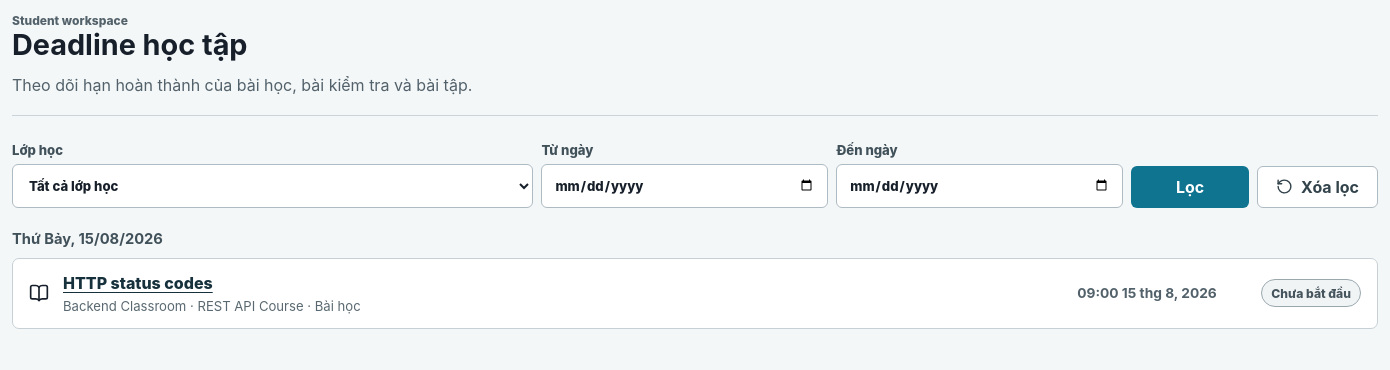
Test: Phase 04 Student learning pages › rejects an invalid deadline range without sending another deadline request
Check: the link "HTTP status codes" is shown, box left=63, top=272, right=213, bottom=292
Type "2026-09-01" into the date field labelled "Từ ngày" at (685, 186), box left=541, top=164, right=828, bottom=208
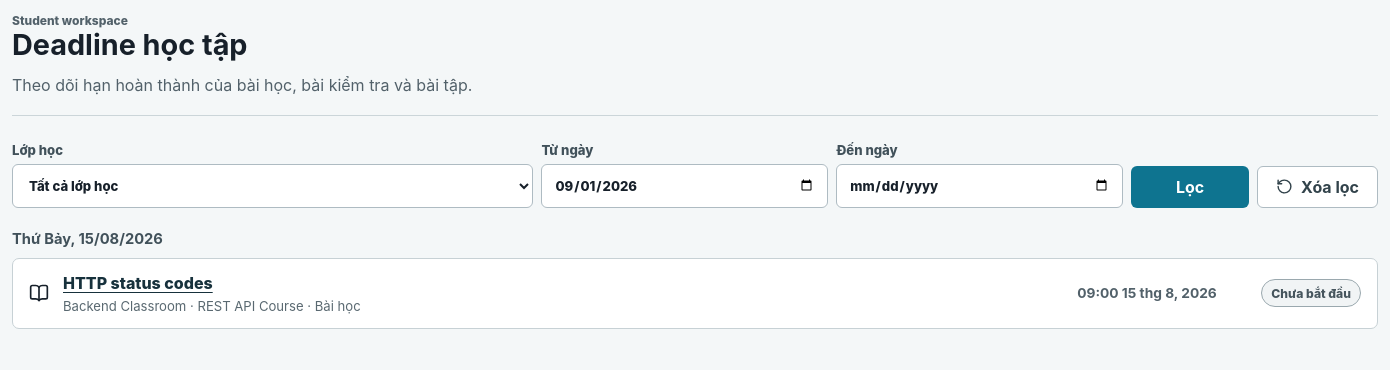
Type "2026-08-01" into the date field labelled "Đến ngày" at (980, 186), box left=836, top=164, right=1123, bottom=208
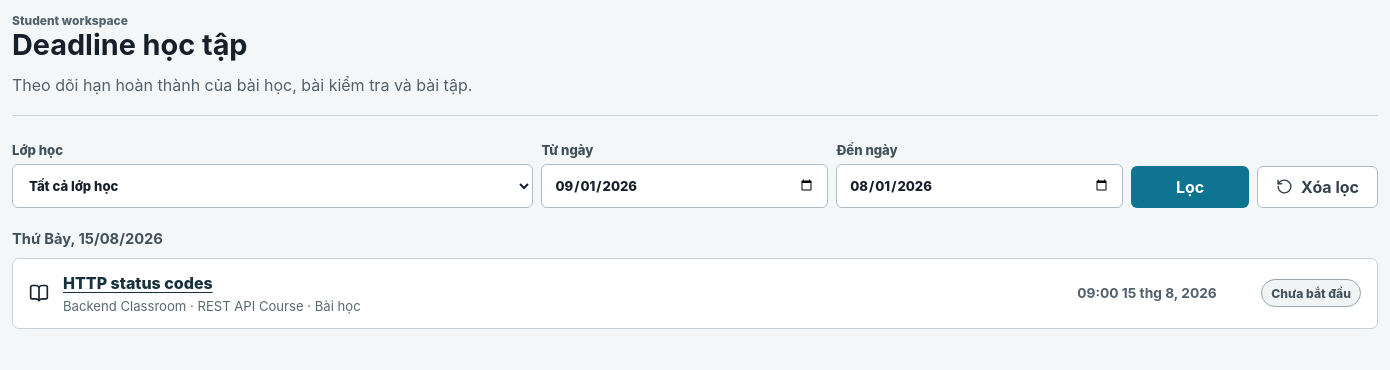
Click the button "Lọc" at (1190, 186), box left=1131, top=166, right=1249, bottom=208
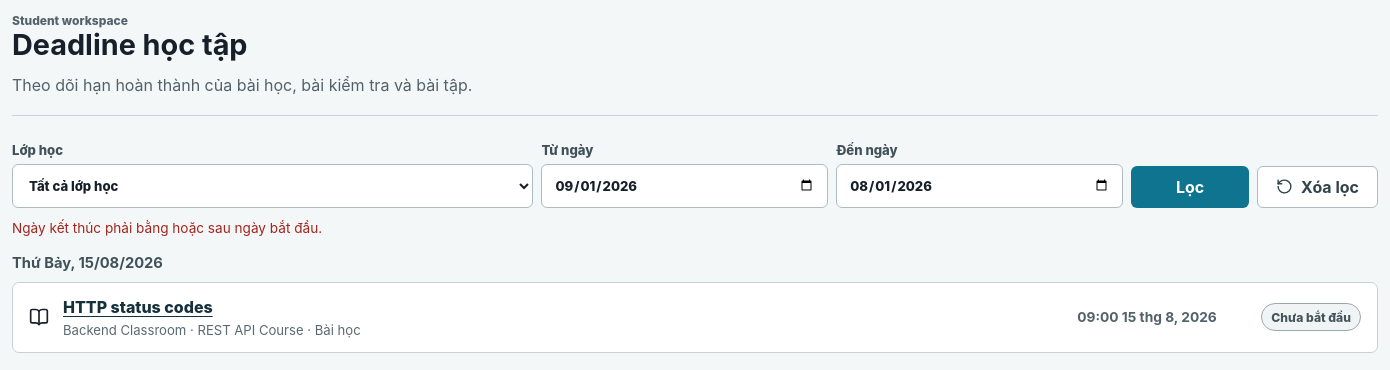
Check: the message reads "Ngày kết thúc phải bằng hoặc sau ngày bắt đầu.", box left=12, top=220, right=322, bottom=236
